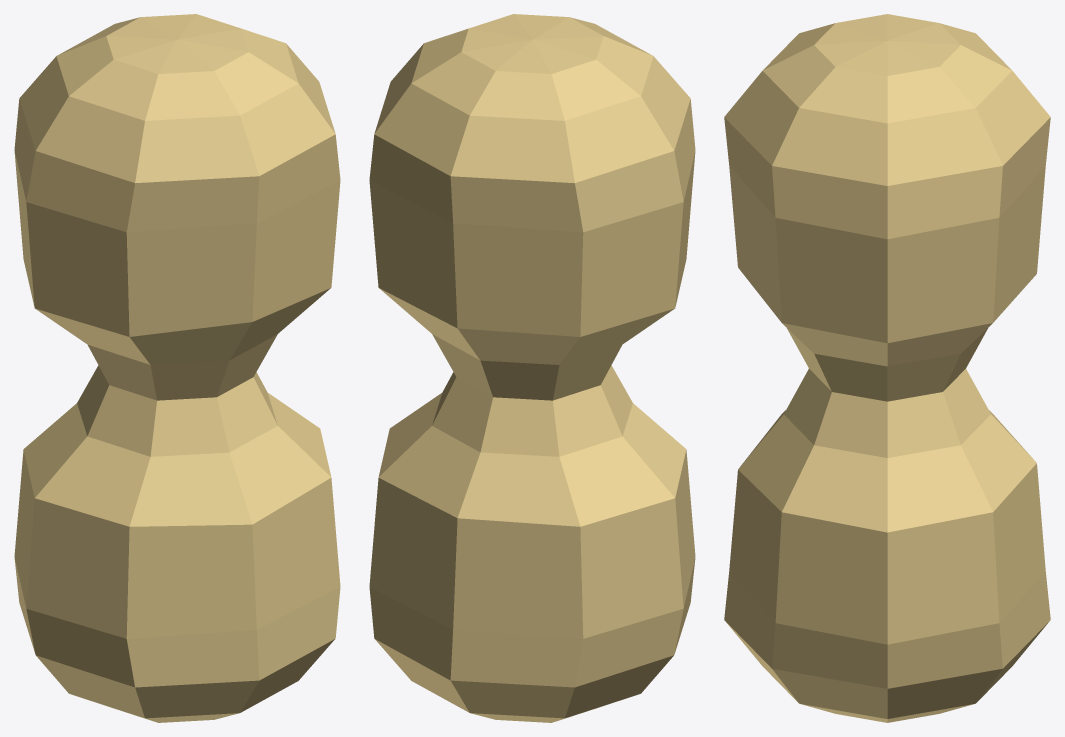
The model's file is Maní.fbx.
3 renders of one model, left to right at view 1: azimuth 30°, elevation 25°; view 2: azimuth 150°, elevation 25°; view 3: azimuth 270°, elevation 25°, orthographic.
Parts seen in each view (by area): view 1: Mani:pSphere3; view 2: Mani:pSphere3; view 3: Mani:pSphere3.
Boxes of the visible parts, x1=… form: Mani:pSphere3: x1=14, y1=14, x2=340, y2=722; Mani:pSphere3: x1=369, y1=14, x2=695, y2=722; Mani:pSphere3: x1=724, y1=14, x2=1050, y2=722.
Size of the model in its own units: 72.81 by 151 by 68.33.
